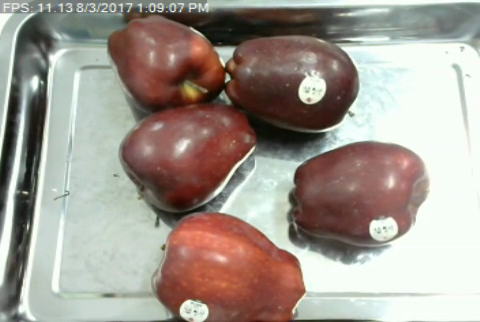Apple: (151, 207, 308, 322), (116, 100, 260, 217), (289, 140, 430, 249), (221, 33, 362, 134), (103, 12, 230, 115)
